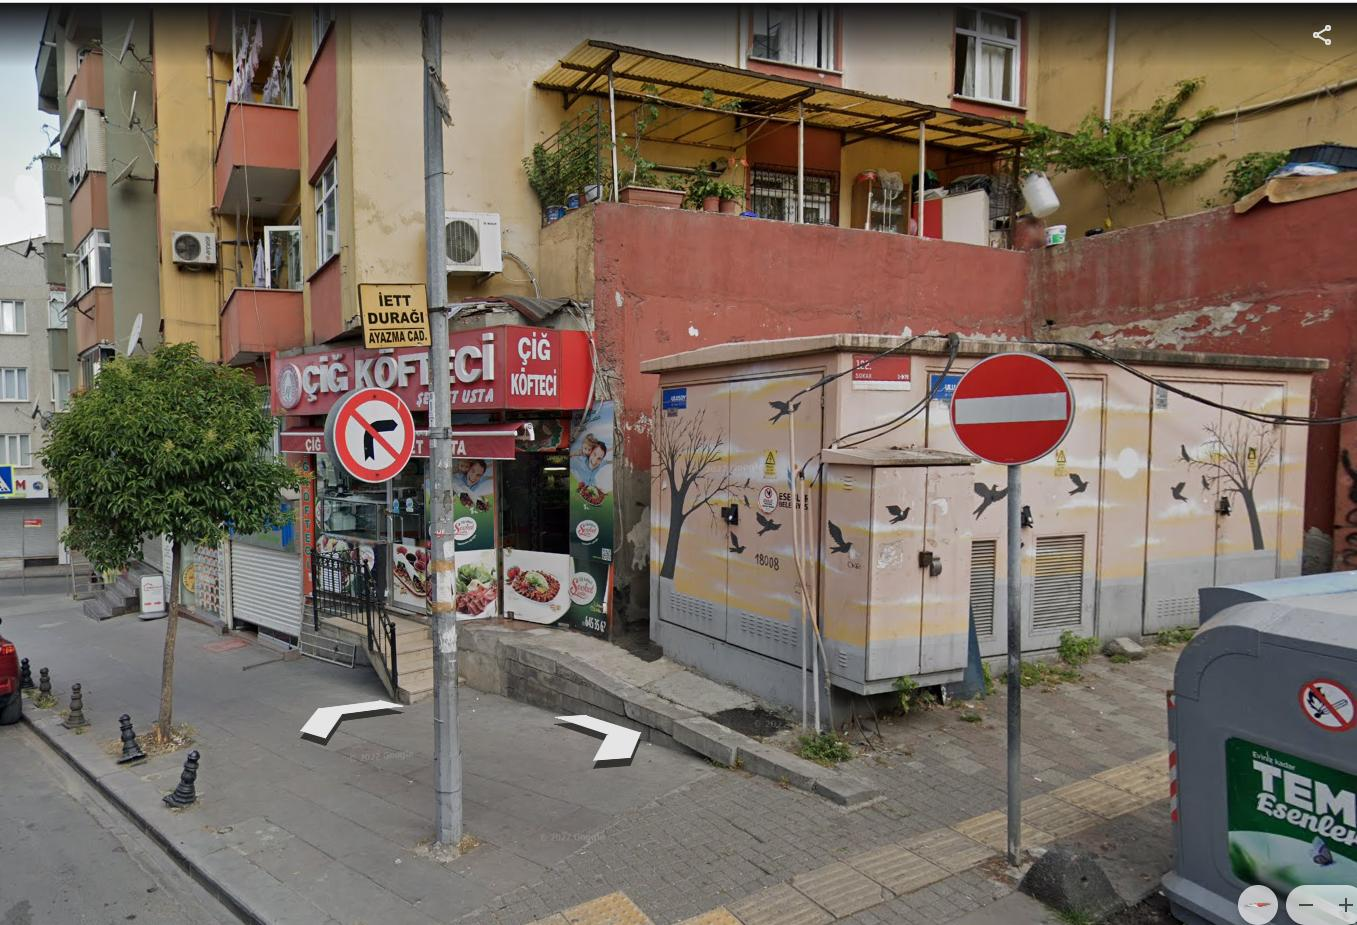rightturnsareforbidden: (327, 391, 417, 482)
